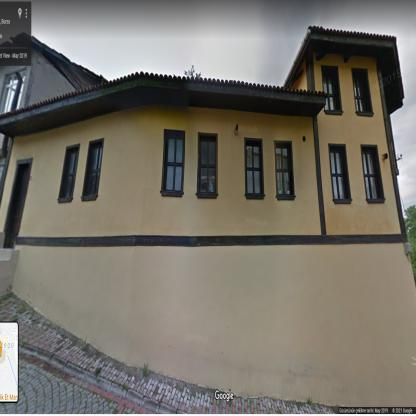door: (3, 158, 32, 248)
window: (161, 130, 185, 192), (82, 138, 104, 196), (328, 144, 350, 199), (361, 146, 384, 198), (198, 132, 217, 192), (59, 144, 79, 198), (274, 141, 294, 195), (1, 71, 26, 112), (245, 139, 263, 193), (321, 66, 342, 110), (352, 69, 372, 112)
